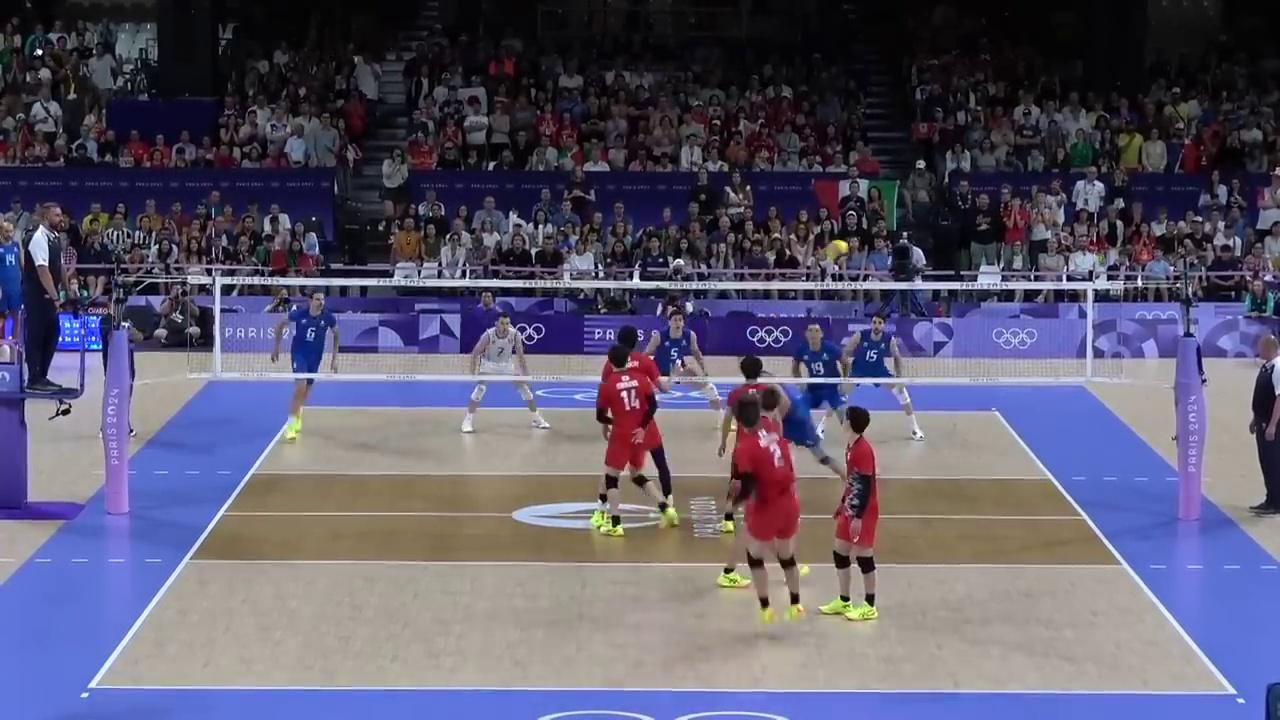ball: (827, 239, 850, 262)
